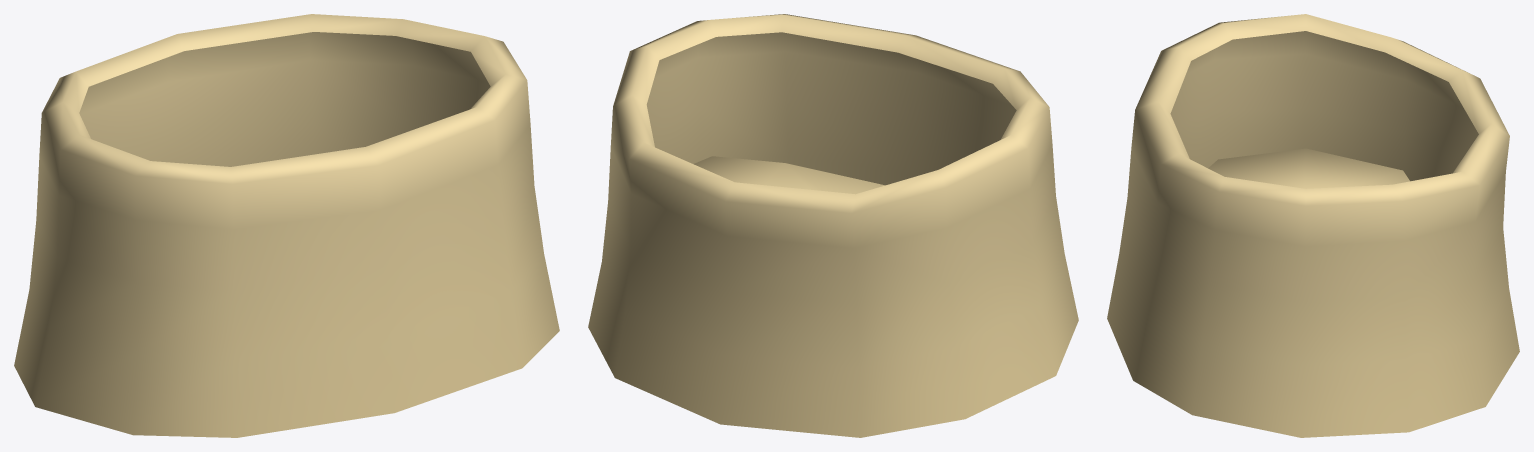
File: Bottom_28.fbx
3 views of the same model, side by side, from view 1: azimuth 30°, elevation 25°; view 2: azimuth 150°, elevation 25°; view 3: azimuth 270°, elevation 25° (orthographic). The views are drawn at different scales.
Parts seen in each view (by area): view 1: Bottom_28; view 2: Bottom_28; view 3: Bottom_28.
Part boxes in pixels (box(x1,y1,x2,y2)): Bottom_28: box(14, 14, 559, 437); Bottom_28: box(588, 14, 1078, 437); Bottom_28: box(1107, 14, 1519, 437).
Size of the model in its own units: 43.31 by 23.57 by 35.06.
